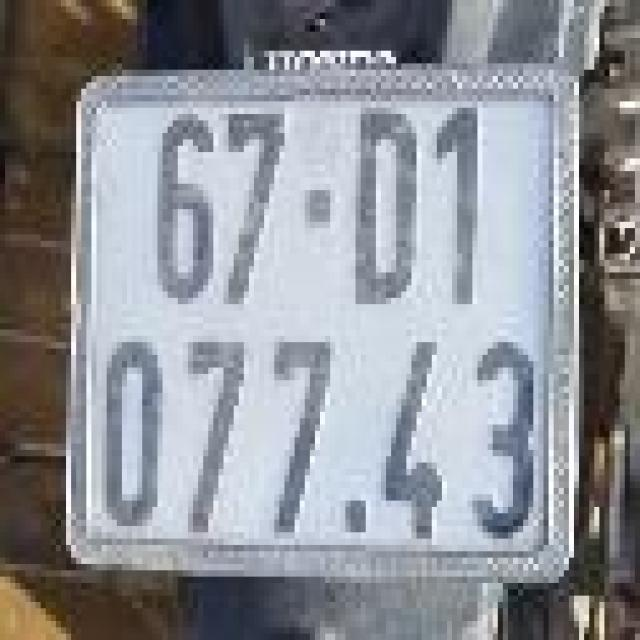0: (86, 323, 173, 526)
1: (422, 102, 498, 310)
3: (462, 323, 564, 564)
4: (373, 336, 460, 564)
6: (140, 99, 221, 308)
7: (173, 310, 259, 545), (262, 316, 338, 538), (231, 107, 287, 310)
D: (333, 92, 424, 320)
